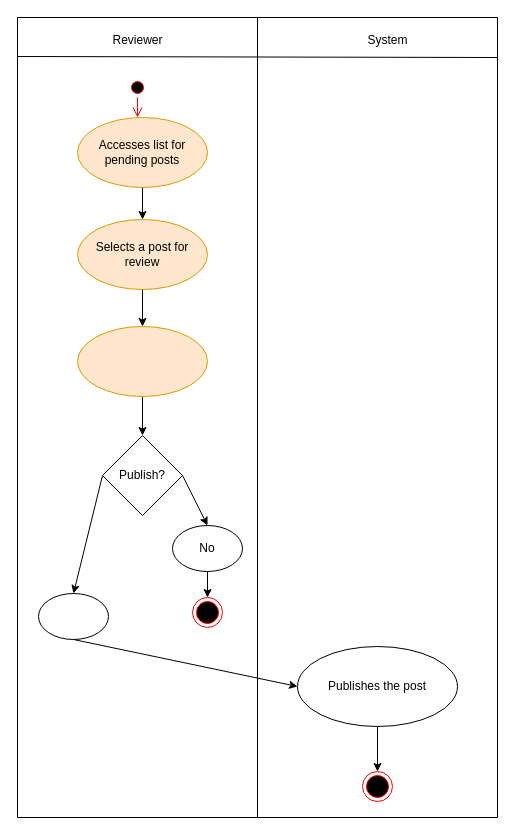
Image size: 516x836. Some labels were removed from this diagram. Here are the shapes that lost their labels. From the top down, the box of each, then its label:
(76, 326, 208, 396): Evaluates the content
(38, 592, 108, 640): Yes
